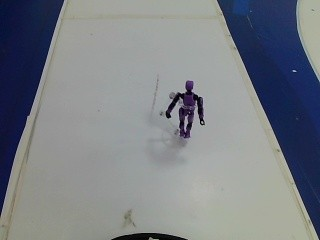pedestrian: (163, 75, 205, 143)
